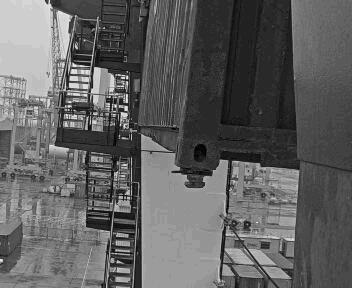twist_lock_1: (173, 160, 219, 198)
